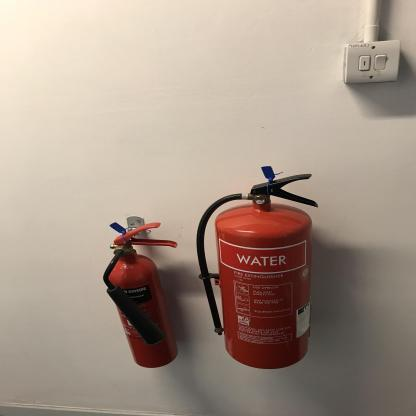Fire Extinguisher: (193, 143, 334, 383), (104, 207, 181, 396)
